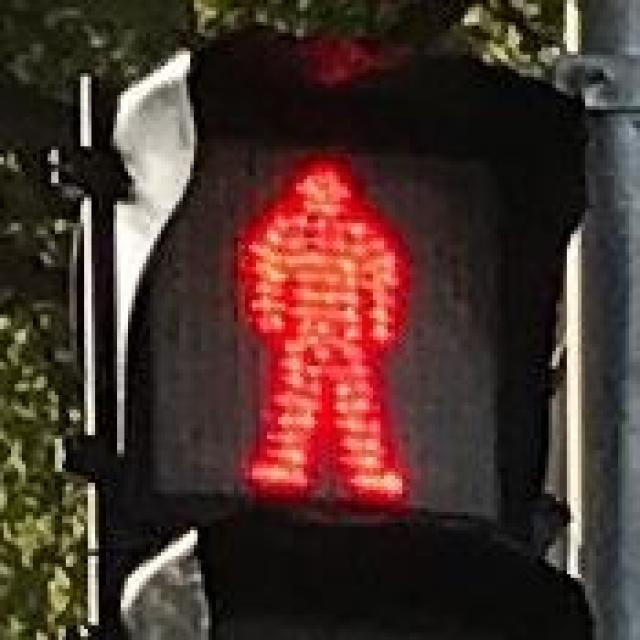red-crossing: (128, 102, 504, 530)
